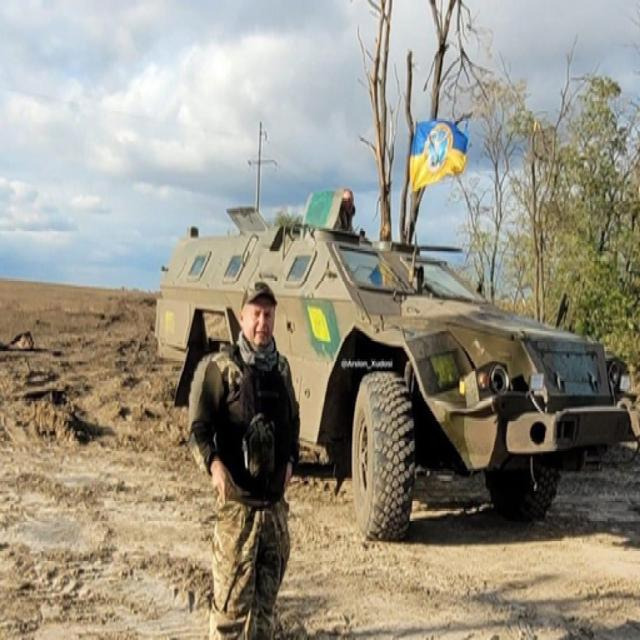CAR: (148, 167, 638, 542)
